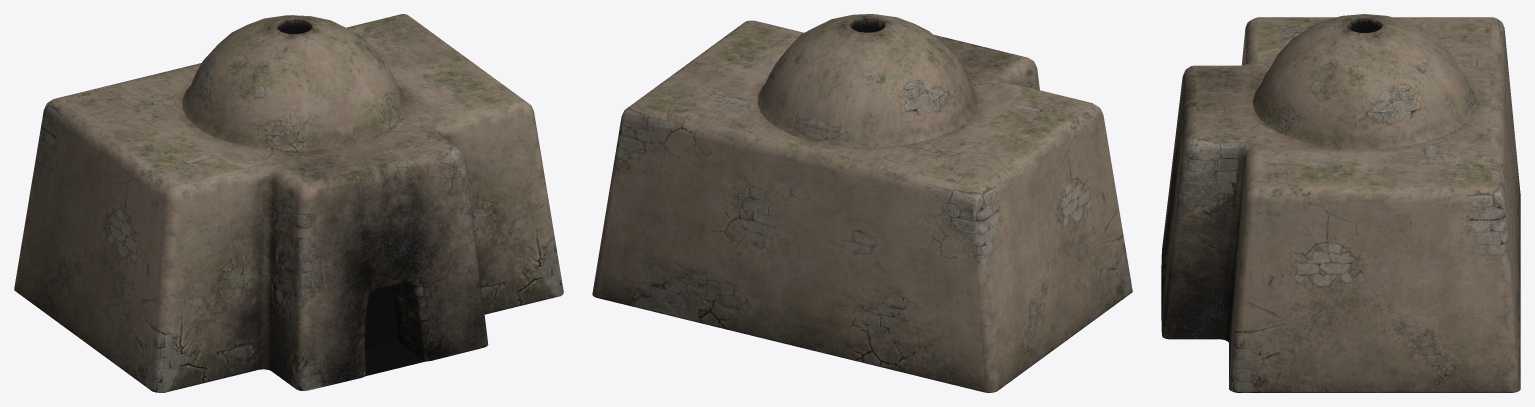
File: Limestone Burner Final.fbx
The picture shows the model from 3 angles, left to right: view 1: azimuth 30°, elevation 25°; view 2: azimuth 150°, elevation 25°; view 3: azimuth 270°, elevation 25°; orthographic projection.
Visible parts, largest first — view 1: Limestone_Burner_Final; view 2: Limestone_Burner_Final; view 3: Limestone_Burner_Final.
Boxes of the visible parts, bbox=[...] form: Limestone_Burner_Final: bbox=[14, 14, 563, 392]; Limestone_Burner_Final: bbox=[592, 14, 1132, 392]; Limestone_Burner_Final: bbox=[1161, 14, 1520, 392].
Bounding box in the file's own units: 480 × 300 × 364.
